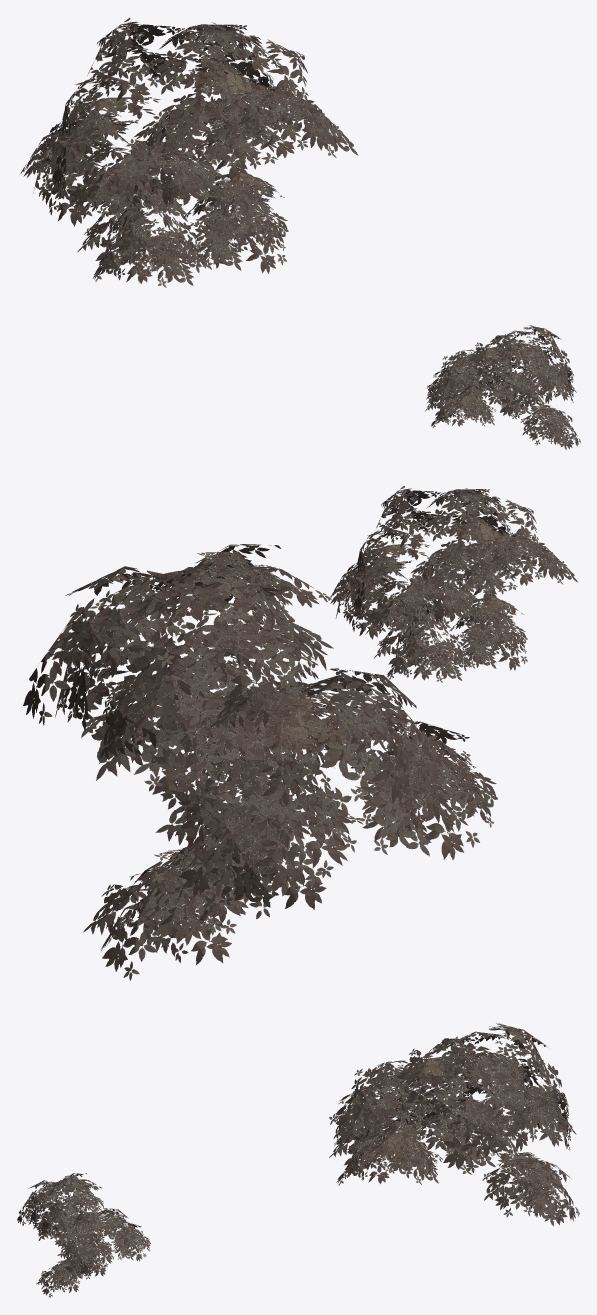
File: Area12_31.fbx
3 views of the same model, one above another, from view 1: azimuth 30°, elevation 25°; view 2: azimuth 150°, elevation 25°; view 3: azimuth 270°, elevation 25° (orthographic). The views are drawn at different scales.
Parts seen in each view (by area): view 1: Area12_31; view 2: Area12_31; view 3: Area12_31.
Part boxes in pixels (box(x1,y1,x2,y2)): Area12_31: box(20, 17, 580, 449); Area12_31: box(23, 486, 577, 980); Area12_31: box(17, 1023, 579, 1297).
Size of the model in its own units: 1304 by 1098 by 2643.
